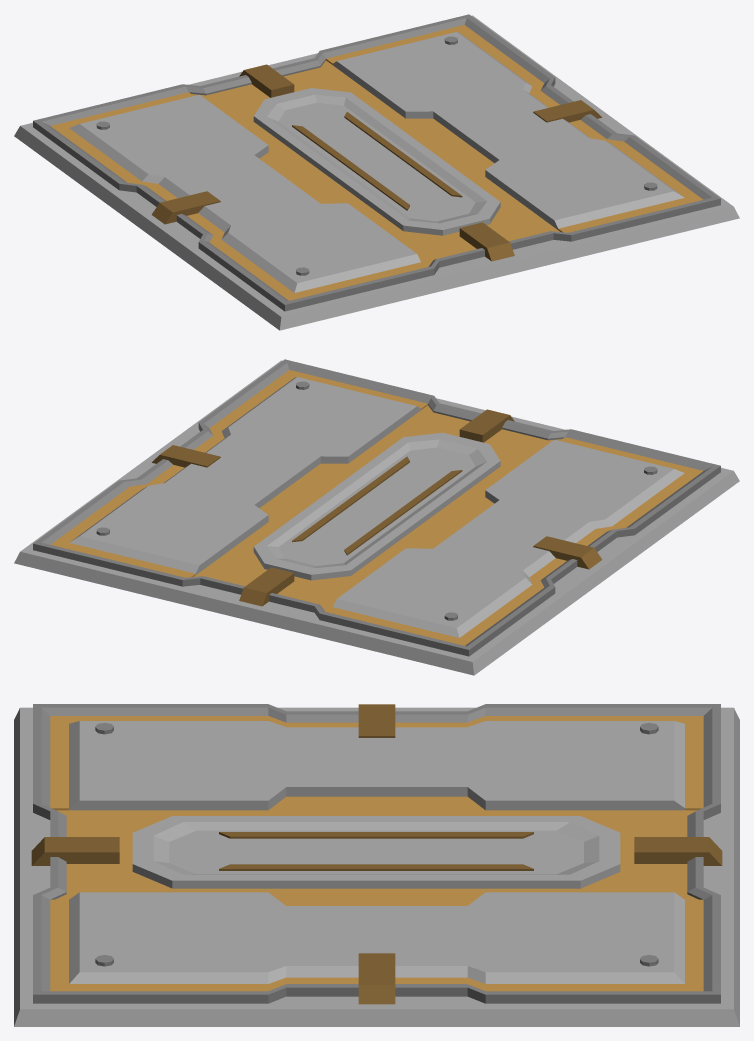
Rendered from FloorTile_Basic2.glb.
The picture shows the model from 3 angles, top to bottom: view 1: azimuth 30°, elevation 25°; view 2: azimuth 150°, elevation 25°; view 3: azimuth 270°, elevation 25°; orthographic projection. The views are drawn at different scales.
Parts seen in each view (by area): view 1: FloorTile_Basic2; view 2: FloorTile_Basic2; view 3: FloorTile_Basic2.
Boxes of the visible parts, x1,y1,x2,y2 form: FloorTile_Basic2: (14, 14, 739, 330); FloorTile_Basic2: (14, 359, 739, 675); FloorTile_Basic2: (14, 704, 739, 1026).
Bounding box in the file's own units: 2 × 0.0934 × 2.
